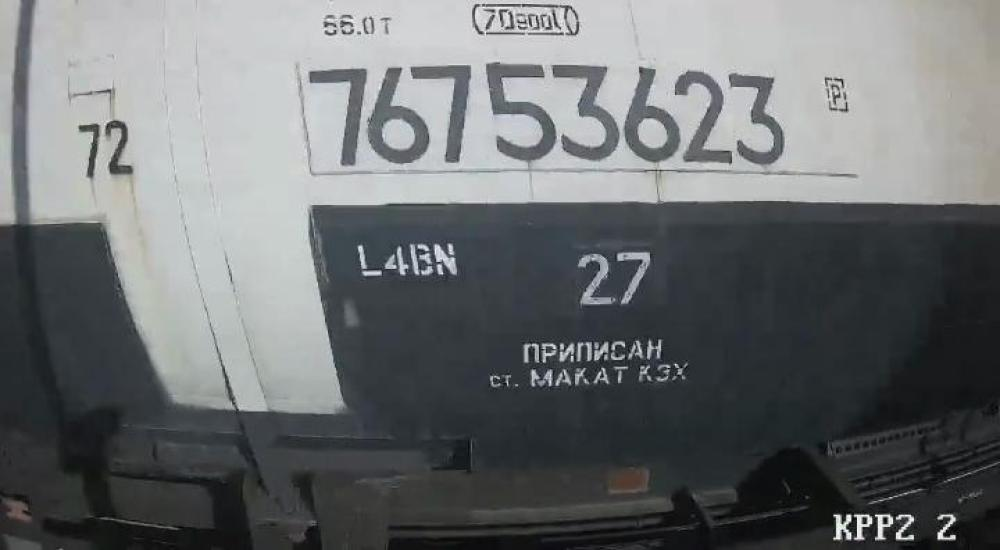Wagon-number: (306, 57, 792, 170)
